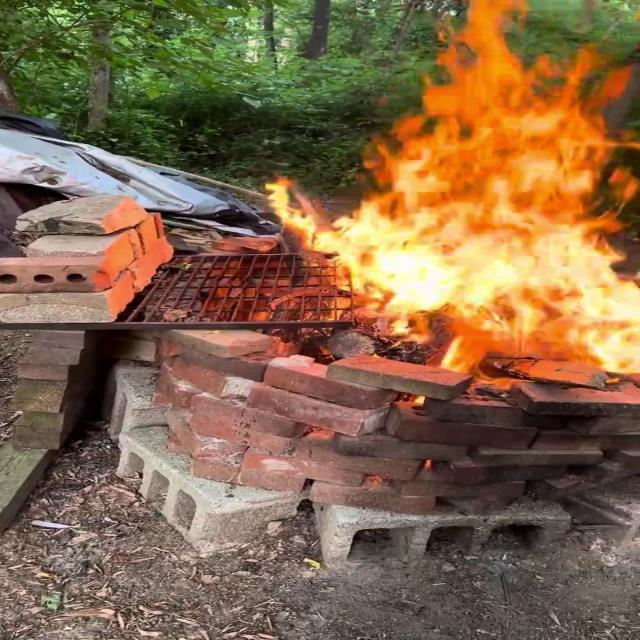Fire: (260, 0, 640, 394)
